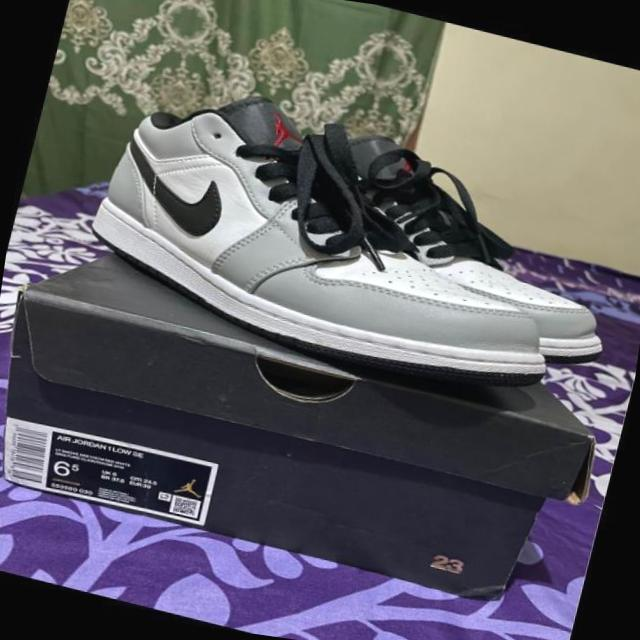nike_original_jordan: (72, 59, 603, 412), (291, 118, 640, 385)
